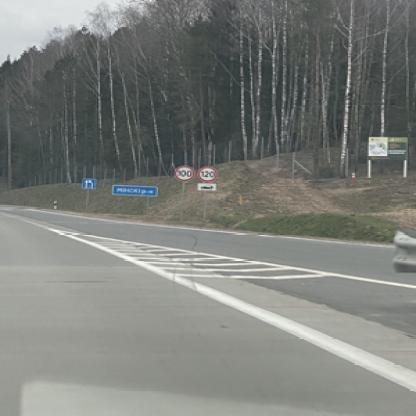speedlimit: (172, 163, 193, 180), (198, 164, 216, 179)
